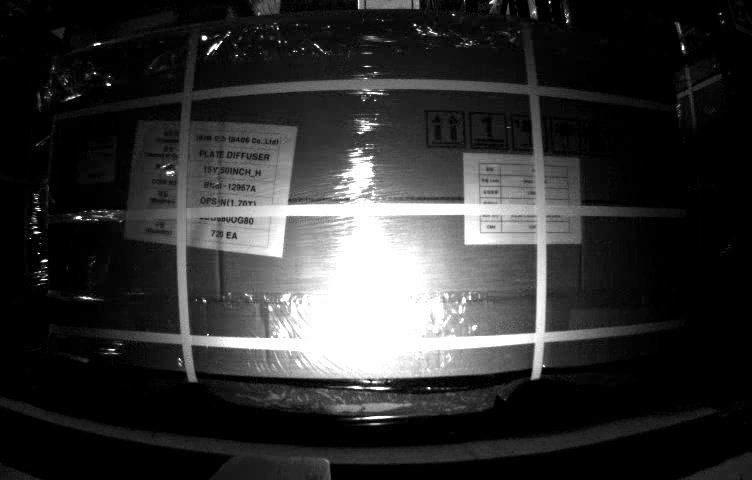True Barcode: (73, 136, 116, 182)
